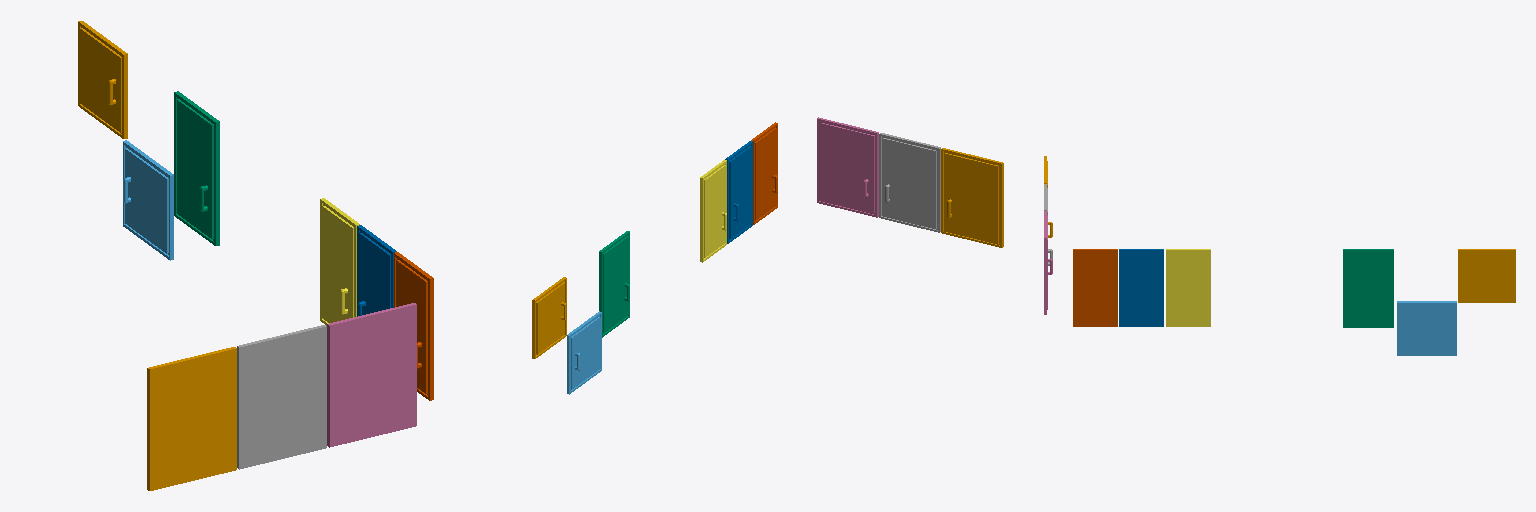
robot.urdf — kitchen_dynamic:
<?xml version="1.0"?>
<!-- created with Phobos 1.0.1 "Capricious Choutengan" -->
  <robot name="kitchen_dynamic">

    <link name="CabinetDoor_revolve">
      <inertial>
        <origin xyz="0.01108 -0.34558 0.36647" rpy="0 0 0"/>
        <mass value="0.5"/>
        <inertia ixx="0.05492" ixy="-1e-05" ixz="-0.00054" iyy="0.02418" iyz="0.00273" izz="0.02863"/>
      </inertial>
      <visual name="CabinetDoor">
        <origin xyz="0.01108 -0.34558 0.36647" rpy="0 0 0"/>
        <geometry>
          <mesh filename="..\meshes\dae\Cabinets.003.dae" scale="1.07738 1.04823 1.07738"/>
        </geometry>
      </visual>
      <collision name="CabinetDoor.col">
        <origin xyz="0.01108 -0.34558 0.36647" rpy="0 0 0"/>
        <geometry>
          <mesh filename="..\meshes\dae\Cabinets.005.dae" scale="1.0 1.0 1.0"/>
        </geometry>
      </collision>
    </link>

    <link name="CabinetDoor_revolve.001">
      <inertial>
        <origin xyz="0.01108 -0.34558 0.36647" rpy="0 0 0"/>
        <mass value="0.5"/>
        <inertia ixx="0.05492" ixy="-1e-05" ixz="-0.00054" iyy="0.02418" iyz="0.00273" izz="0.02863"/>
      </inertial>
      <visual name="CabinetDoor.002">
        <origin xyz="-0.01108 0.35997 -0.36647" rpy="0 -3.14159 0"/>
        <geometry>
          <mesh filename="..\meshes\dae\Cabinets.007.dae" scale="-1.0 -1.04165 -1.0"/>
        </geometry>
      </visual>
      <collision name="CabinetDoor.col.001">
        <origin xyz="-0.01108 0.35997 -0.36647" rpy="0 -3.14159 0"/>
        <geometry>
          <mesh filename="..\meshes\dae\Cabinets.006.dae" scale="-1.0 -1.04165 -1.0"/>
        </geometry>
      </collision>
    </link>

    <link name="CabinetDoor_revolve.002">
      <inertial>
        <origin xyz="0.01108 -0.35997 0.36647" rpy="0 0 0"/>
        <mass value="0.5"/>
        <inertia ixx="0.04076" ixy="-1e-05" ixz="-0.0004" iyy="0.02003" iyz="0.00214" izz="0.02125"/>
      </inertial>
      <visual name="CabinetDoor.003">
        <origin xyz="0.01108 -0.35997 0.69432" rpy="0 0 0"/>
        <geometry>
          <mesh filename="..\meshes\dae\Cabinets.001.dae" scale="1.0 1.0 1.0"/>
        </geometry>
      </visual>
      <collision name="CabinetDoor.003.col">
        <origin xyz="0.01108 -0.35997 0.69432" rpy="0 0 0"/>
        <geometry>
          <mesh filename="..\meshes\dae\Cabinets.008.dae" scale="1.0 1.0 1.0"/>
        </geometry>
      </collision>
    </link>

    <link name="CabinetDoor_revolve.003">
      <inertial>
        <origin xyz="0.01108 -0.35997 0.36647" rpy="0 0 0"/>
        <mass value="0.5"/>
        <inertia ixx="0.04076" ixy="-1e-05" ixz="-0.0004" iyy="0.02003" iyz="0.00214" izz="0.02125"/>
      </inertial>
      <visual name="CabinetDoor.004">
        <origin xyz="0.01108 -0.35997 0.69432" rpy="0 0 0"/>
        <geometry>
          <mesh filename="..\meshes\dae\Cabinets.011.dae" scale="1.0 1.0 1.0"/>
        </geometry>
      </visual>
      <collision name="CabinetDoor.004.000">
        <origin xyz="0.01108 -0.35997 0.69432" rpy="0 0 0"/>
        <geometry>
          <mesh filename="..\meshes\dae\Cabinets.012.dae" scale="1.0 1.0 1.0"/>
        </geometry>
      </collision>
    </link>

    <link name="CabinetDoor_revolve.004">
      <inertial>
        <origin xyz="0.01108 0.35997 0.36647" rpy="0 0 0"/>
        <mass value="0.5"/>
        <inertia ixx="0.04076" ixy="-1e-05" ixz="-0.0004" iyy="0.02003" iyz="0.00214" izz="0.02125"/>
      </inertial>
      <visual name="CabinetDoor.005">
        <origin xyz="0.01108 0.35997 0.69432" rpy="0 0 0"/>
        <geometry>
          <mesh filename="..\meshes\dae\Cabinets.014.dae" scale="1.0 1.0 1.0"/>
        </geometry>
      </visual>
      <collision name="CabinetDoor.004.001">
        <origin xyz="0.01108 0.35997 0.69432" rpy="0 0 0"/>
        <geometry>
          <mesh filename="..\meshes\dae\Cabinets.013.dae" scale="1.0 1.0 1.0"/>
        </geometry>
      </collision>
    </link>

    <link name="CabinetDoor_revolve.005">
      <inertial>
        <origin xyz="0.01108 -0.35997 0.36647" rpy="0 0 0"/>
        <mass value="0.5"/>
        <inertia ixx="0.04076" ixy="0" ixz="-0.0004" iyy="0.02003" iyz="0.00214" izz="0.02125"/>
      </inertial>
      <visual name="CabinetDoor.006">
        <origin xyz="0.01108 -0.35997 0.69432" rpy="0 0 0"/>
        <geometry>
          <mesh filename="..\meshes\dae\Cabinets.015.dae" scale="1.0 1.0 1.0"/>
        </geometry>
      </visual>
      <collision name="CabinetDoor.004.002">
        <origin xyz="0.01108 -0.35997 0.69432" rpy="0 0 0"/>
        <geometry>
          <mesh filename="..\meshes\dae\Cabinets.016.dae" scale="1.0 1.0 1.0"/>
        </geometry>
      </collision>
    </link>

    <link name="CabinetDoor_revolve.006">
      <inertial>
        <origin xyz="0.01108 -0.35997 0.36647" rpy="0 0 0"/>
        <mass value="0.5"/>
        <inertia ixx="0.04076" ixy="0" ixz="-0.0004" iyy="0.02003" iyz="0.00214" izz="0.02125"/>
      </inertial>
      <visual name="CabinetDoor.007">
        <origin xyz="0.01108 -0.35997 0.69432" rpy="0 0 0"/>
        <geometry>
          <mesh filename="..\meshes\dae\Cabinets.018.dae" scale="1.0 1.0 1.0"/>
        </geometry>
      </visual>
      <collision name="CabinetDoor.007.000">
        <origin xyz="0.01108 -0.35997 0.69432" rpy="0 0 0"/>
        <geometry>
          <mesh filename="..\meshes\dae\Cabinets.021.dae" scale="1.0 1.0 1.0"/>
        </geometry>
      </collision>
    </link>

    <link name="CabinetDoor_revolve.007">
      <inertial>
        <origin xyz="0.35997 -0.01108 0.36647" rpy="0 0 0"/>
        <mass value="0.5"/>
        <inertia ixx="0.04076" ixy="0" ixz="-0.0004" iyy="0.02003" iyz="0.00214" izz="0.02125"/>
      </inertial>
      <visual name="CabinetDoor.008">
        <origin xyz="0.35997 -0.01108 0.69432" rpy="0 0 0"/>
        <geometry>
          <mesh filename="..\meshes\dae\Cabinets.019.dae" scale="1.0 1.0 1.0"/>
        </geometry>
      </visual>
      <collision name="CabinetDoor.008.000">
        <origin xyz="0.35997 -0.01108 0.69432" rpy="0 0 0"/>
        <geometry>
          <mesh filename="..\meshes\dae\Cabinets.022.dae" scale="1.0 1.0 1.0"/>
        </geometry>
      </collision>
    </link>

    <link name="CabinetDoor_revolve.008">
      <inertial>
        <origin xyz="0.35997 -0.01108 0.36647" rpy="0 0 0"/>
        <mass value="0.5"/>
        <inertia ixx="0.04076" ixy="0" ixz="-0.0004" iyy="0.02003" iyz="0.00214" izz="0.02125"/>
      </inertial>
      <visual name="CabinetDoor.009">
        <origin xyz="0.35997 -0.01108 0.69432" rpy="0 0 0"/>
        <geometry>
          <mesh filename="..\meshes\dae\Cabinets.020.dae" scale="1.0 1.0 1.0"/>
        </geometry>
      </visual>
      <collision name="CabinetDoor.009.000">
        <origin xyz="0.35997 -0.01108 0.69432" rpy="0 0 0"/>
        <geometry>
          <mesh filename="..\meshes\dae\Cabinets.023.dae" scale="1.0 1.0 1.0"/>
        </geometry>
      </collision>
    </link>

    <link name="root_dynamic">
      <inertial>
        <origin xyz="0 0 0" rpy="0 0 0"/>
        <mass value="0.001"/>
        <inertia ixx="0.001" ixy="0" ixz="0" iyy="0.001" iyz="0" izz="0.001"/>
      </inertial>
    </link>

    <joint name="CabinetDoor_revolve" type="revolute">
      <origin xyz="0.87159 3.77577 2.10183" rpy="0 0 0"/>
      <parent link="root_dynamic"/>
      <child link="CabinetDoor_revolve"/>
      <axis xyz="0 0 1.0"/>
      <limit lower="-3.0" upper="0" effort="0" velocity="0"/>
    </joint>

    <joint name="CabinetDoor_revolve.001" type="revolute">
      <origin xyz="0.87159 2.32122 2.10183" rpy="0 0 0"/>
      <parent link="root_dynamic"/>
      <child link="CabinetDoor_revolve.001"/>
      <axis xyz="0 0 1.0"/>
      <limit lower="-3.0" upper="0" effort="0" velocity="0"/>
    </joint>

    <joint name="CabinetDoor_revolve.002" type="revolute">
      <origin xyz="0.87159 2.26898 1.77074" rpy="0 0 0"/>
      <parent link="root_dynamic"/>
      <child link="CabinetDoor_revolve.002"/>
      <axis xyz="0 0 1.0"/>
      <limit lower="-3.0" upper="0" effort="0" velocity="0"/>
    </joint>

    <joint name="CabinetDoor_revolve.003" type="revolute">
      <origin xyz="0.87159 -0.01653 1.77074" rpy="0 0 0"/>
      <parent link="root_dynamic"/>
      <child link="CabinetDoor_revolve.003"/>
      <axis xyz="0 0 1.0"/>
      <limit lower="-3.0" upper="0" effort="0" velocity="0"/>
    </joint>

    <joint name="CabinetDoor_revolve.004" type="revolute">
      <origin xyz="0.87159 -1.13262 1.77074" rpy="0 0 0"/>
      <parent link="root_dynamic"/>
      <child link="CabinetDoor_revolve.004"/>
      <axis xyz="0 0 1.0"/>
      <limit lower="-3.0" upper="0" effort="0" velocity="0"/>
    </joint>

    <joint name="CabinetDoor_revolve.005" type="revolute">
      <origin xyz="0.87159 -1.16978 1.77074" rpy="0 0 0"/>
      <parent link="root_dynamic"/>
      <child link="CabinetDoor_revolve.005"/>
      <axis xyz="0 0 1.0"/>
      <limit lower="-3.0" upper="0" effort="0" velocity="0"/>
    </joint>

    <joint name="CabinetDoor_revolve.006" type="revolute">
      <origin xyz="0.51584 -2.06474 1.77074" rpy="0 0 -1.5708"/>
      <parent link="root_dynamic"/>
      <child link="CabinetDoor_revolve.006"/>
      <axis xyz="0 0 1.0"/>
      <limit lower="-3.0" upper="0" effort="0" velocity="0"/>
    </joint>

    <joint name="CabinetDoor_revolve.007" type="revolute">
      <origin xyz="-1.07047 -2.06474 1.77074" rpy="0 0 0"/>
      <parent link="root_dynamic"/>
      <child link="CabinetDoor_revolve.007"/>
      <axis xyz="0 0 1.0"/>
      <limit lower="-3.0" upper="0" effort="0" velocity="0"/>
    </joint>

    <joint name="CabinetDoor_revolve.008" type="revolute">
      <origin xyz="-1.88167 -2.06474 1.77074" rpy="0 0 0"/>
      <parent link="root_dynamic"/>
      <child link="CabinetDoor_revolve.008"/>
      <axis xyz="0 0 1.0"/>
      <limit lower="-3.0" upper="0" effort="0" velocity="0"/>
    </joint>

  </robot>

--- Facts derived from the render (not from the file) ---
Views: 3 orthographic renders of the robot side by side, from view 1: azimuth 30°, elevation 25°; view 2: azimuth 150°, elevation 25°; view 3: azimuth 270°, elevation 25°.
Robot: kitchen_dynamic — 10 links, 9 joints (9 revolute); root link root_dynamic; default pose: every joint at zero.
Links seen in each view (by area): view 1: CabinetDoor_revolve.006, CabinetDoor_revolve.007, CabinetDoor_revolve.008, CabinetDoor_revolve.002, CabinetDoor_revolve.001, CabinetDoor_revolve, CabinetDoor_revolve.003, CabinetDoor_revolve.005, CabinetDoor_revolve.004; view 2: CabinetDoor_revolve.008, CabinetDoor_revolve.006, CabinetDoor_revolve.007, CabinetDoor_revolve.002, CabinetDoor_revolve.003, CabinetDoor_revolve.004, CabinetDoor_revolve.005, CabinetDoor_revolve.001, CabinetDoor_revolve; view 3: CabinetDoor_revolve.002, CabinetDoor_revolve.003, CabinetDoor_revolve.004, CabinetDoor_revolve.005, CabinetDoor_revolve.001, CabinetDoor_revolve.
Link boxes in pixels (x1,y1,x2,y2): CabinetDoor_revolve.006: (327,303,416,447); CabinetDoor_revolve.007: (237,325,326,469); CabinetDoor_revolve.008: (147,347,236,490); CabinetDoor_revolve.002: (174,91,219,245); CabinetDoor_revolve.001: (123,140,173,260); CabinetDoor_revolve: (78,21,127,138); CabinetDoor_revolve.003: (320,198,359,325); CabinetDoor_revolve.005: (394,252,433,400); CabinetDoor_revolve.004: (357,225,396,316); CabinetDoor_revolve.008: (941,148,1003,247); CabinetDoor_revolve.006: (817,117,878,217); CabinetDoor_revolve.007: (879,133,940,232); CabinetDoor_revolve.002: (599,231,629,337); CabinetDoor_revolve.003: (700,160,726,262); CabinetDoor_revolve.004: (725,141,752,243); CabinetDoor_revolve.005: (751,122,777,224); CabinetDoor_revolve.001: (567,311,601,394); CabinetDoor_revolve: (532,277,566,358); CabinetDoor_revolve.002: (1343,249,1393,327); CabinetDoor_revolve.003: (1166,249,1210,326); CabinetDoor_revolve.004: (1119,249,1163,326); CabinetDoor_revolve.005: (1073,249,1117,326); CabinetDoor_revolve.001: (1397,301,1456,355); CabinetDoor_revolve: (1458,249,1515,302).
Size in the robot's own frame: 2.78 by 5.86 by 1.47 metres.
Meshes: 9 distinct files referenced, 9 mesh visuals loaded (9 Collada DAE).